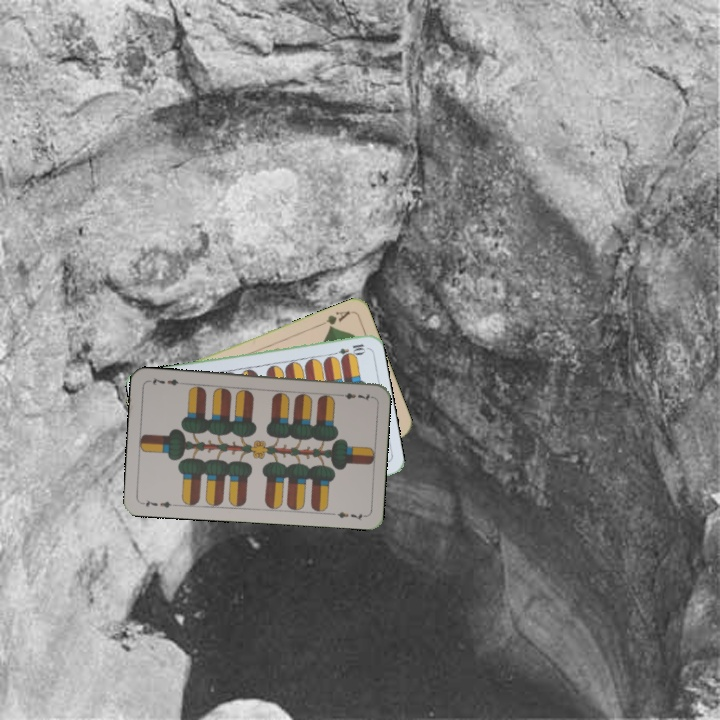E10: (327, 339, 368, 359)
E7: (333, 389, 374, 403), (138, 496, 179, 510)
GA: (315, 306, 353, 331)
